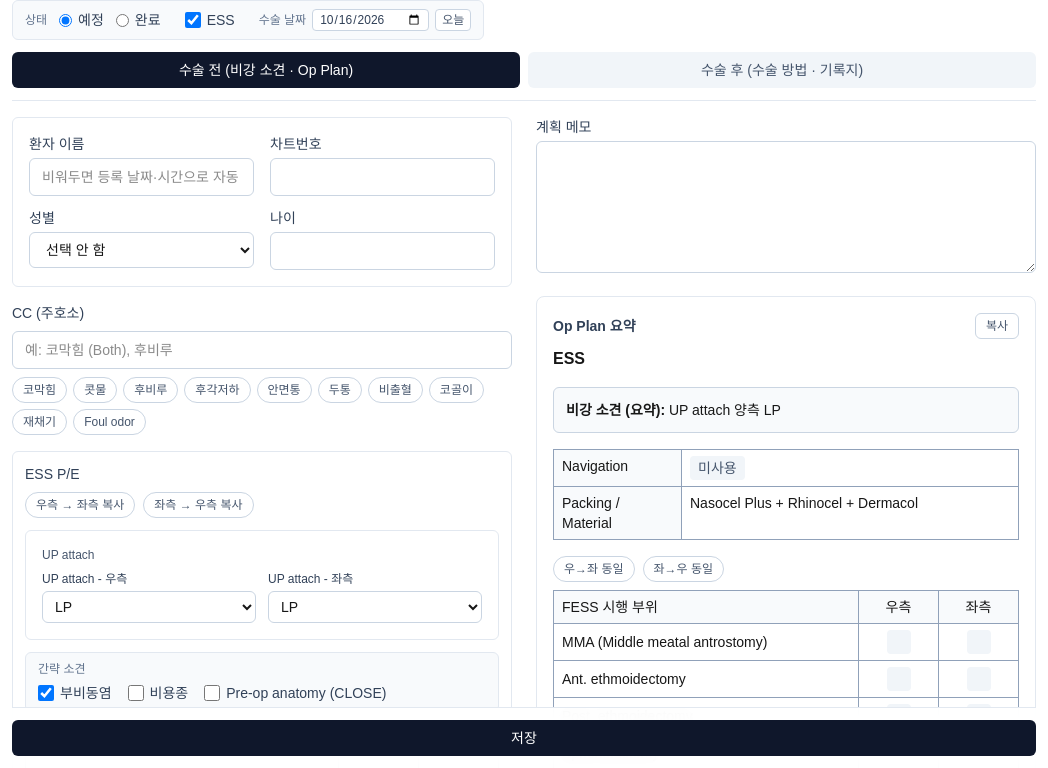
저장 버튼 › 버튼은 하나이고, 수술 후 화면에서는 완료로 바꾸는 저장(record)이 된다
The width and height of the screenshot is (1048, 768).
Expected: the button named "saveIntent" holds "save", [12, 720, 1036, 756]
Click the button "수술 후 (수술 방법 · 기록지)".
click(782, 70)  # box [528, 52, 1036, 88]
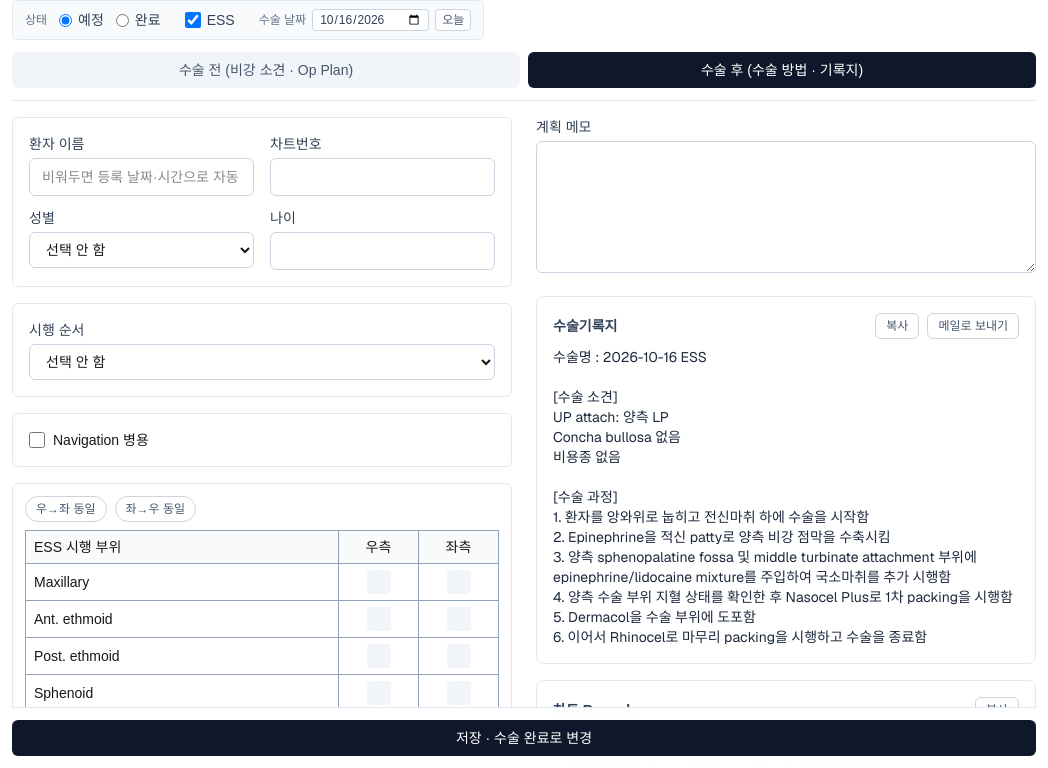
Expected: the button named "saveIntent" holds "record", [12, 720, 1036, 756]
Expected: the button named "saveIntent" reads "저장 · 수술 완료로 변경", [12, 720, 1036, 756]
